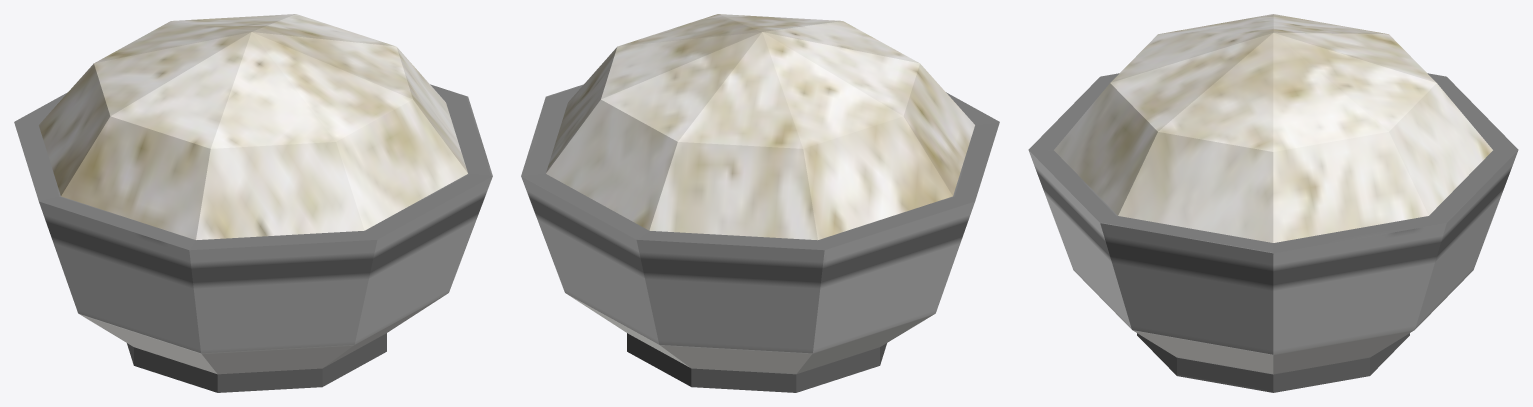
File: riceBowl.fbx
3 views of the same model, side by side, from view 1: azimuth 30°, elevation 25°; view 2: azimuth 150°, elevation 25°; view 3: azimuth 270°, elevation 25° (orthographic).
Visible parts, largest first — view 1: Cylinder; view 2: Cylinder; view 3: Cylinder.
Part boxes in pixels (bbox=[...]): Cylinder: bbox=[14, 14, 492, 392]; Cylinder: bbox=[521, 14, 999, 392]; Cylinder: bbox=[1028, 14, 1518, 392].
Bounding box in the file's own units: 144 × 97.79 × 144.
Materials: 1 (1 with a texture image).
